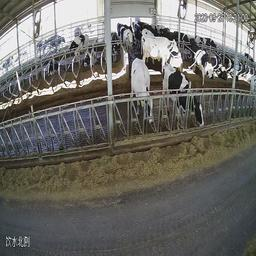cow: (163, 63, 203, 138), (127, 57, 160, 131), (141, 32, 181, 72), (189, 36, 208, 89), (69, 31, 90, 59), (215, 59, 231, 81), (110, 30, 119, 67), (177, 25, 189, 52), (229, 59, 242, 82), (123, 29, 135, 52), (131, 20, 142, 44), (83, 49, 97, 67), (249, 70, 256, 106), (204, 59, 216, 78), (47, 57, 58, 77), (205, 39, 219, 52)
